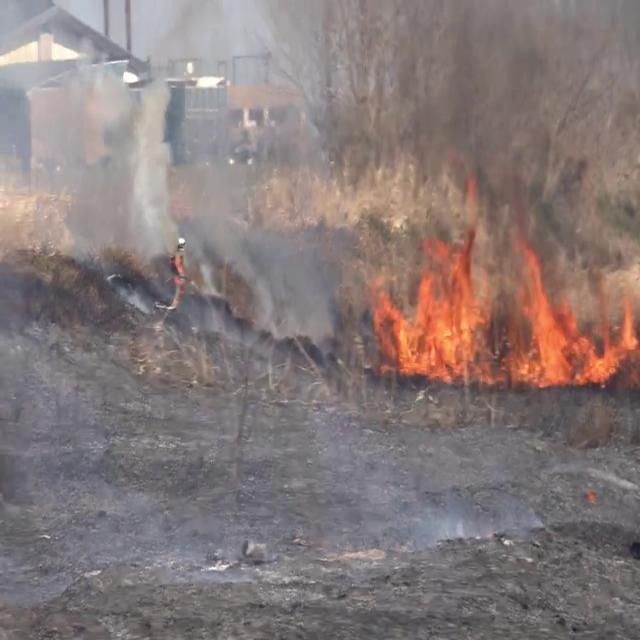Fire: (366, 202, 640, 394)
Smoke: (49, 0, 639, 253)
